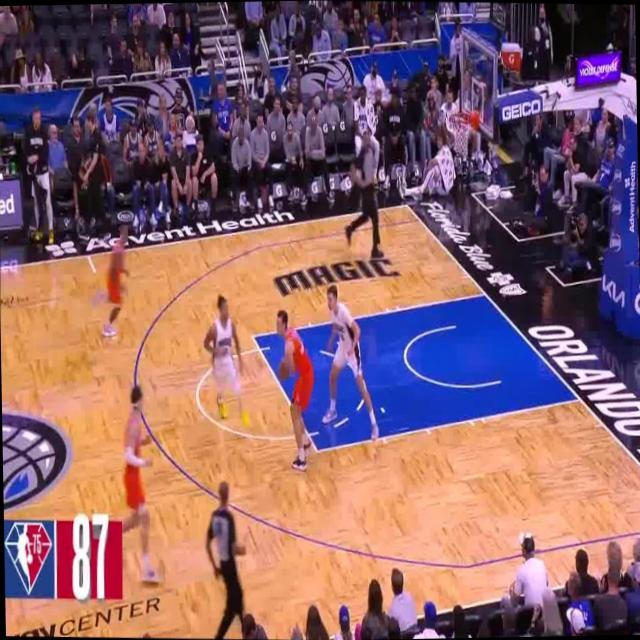ball-handler: (270, 304, 316, 473)
